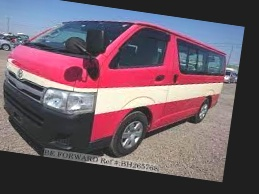van: (0, 3, 229, 170)
